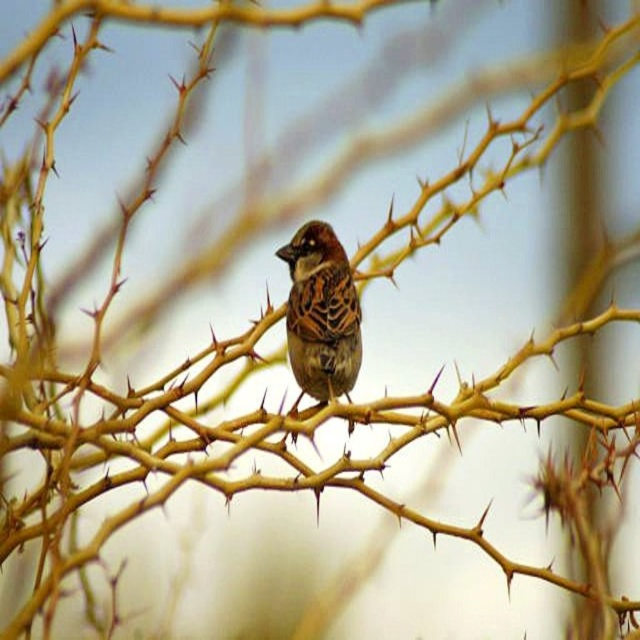Sparrow: (275, 219, 363, 398)
